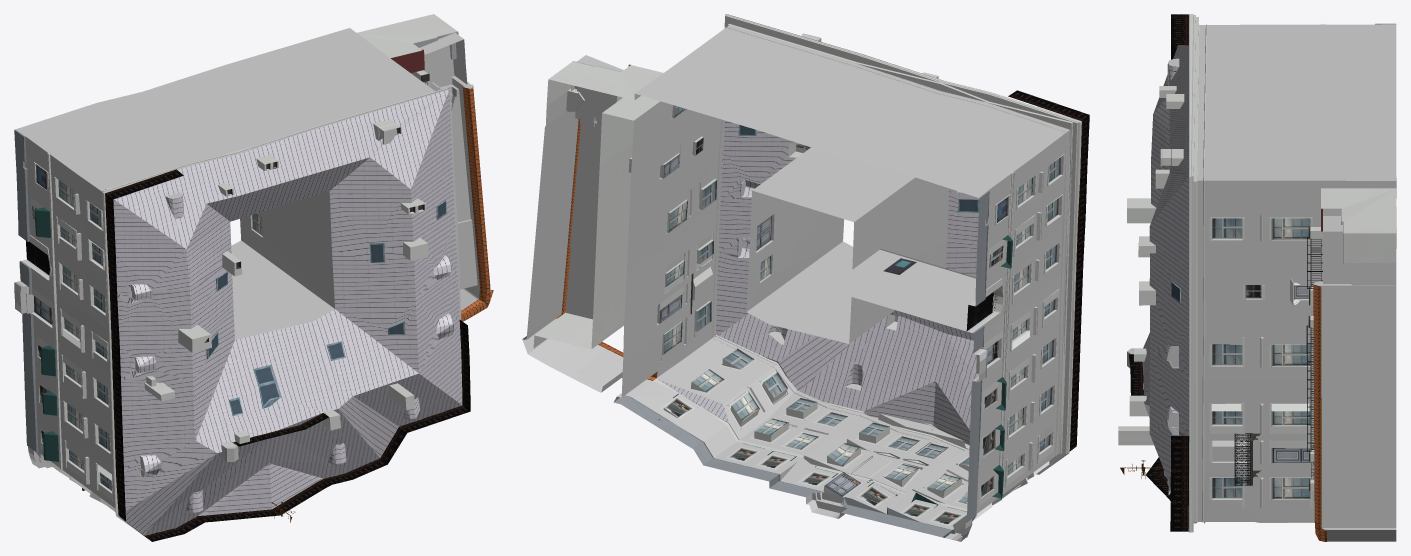
File: Uus2-origo.obj
The picture shows the model from 3 angles, left to right: view 1: azimuth 30°, elevation 25°; view 2: azimuth 150°, elevation 25°; view 3: azimuth 270°, elevation 25°; orthographic projection. The views are drawn at different scales.
Visible parts, largest first — view 1: sein; view 2: sein; view 3: sein.
Boxes of the visible parts, left/top/right/bottom form: sein: left=14, top=14, right=493, bottom=541; sein: left=522, top=14, right=1089, bottom=541; sein: left=1118, top=14, right=1396, bottom=541.
Size of the model in its own units: 35.62 by 28.5 by 17.36.
